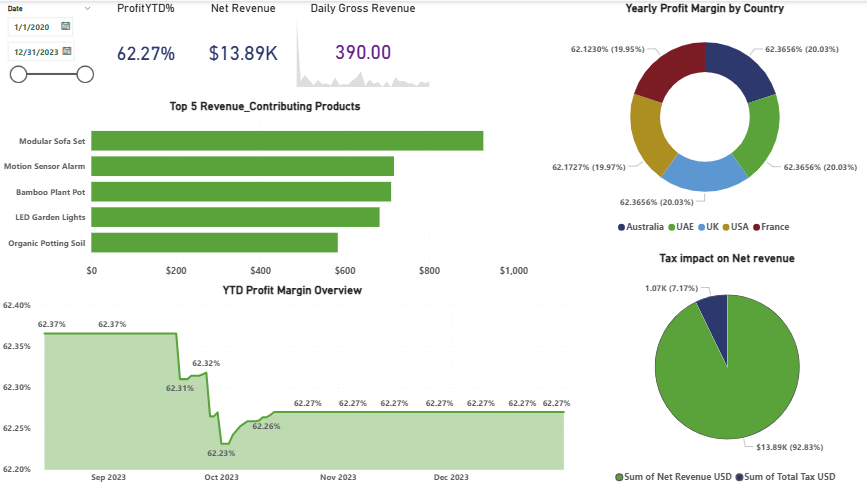

The dashboard page shown, as its layout file describes it:
{"tool":"powerbi","page":{"name":"Profit Overview","canvas":[1280,720],"ordinal":1},"visuals":[{"type":"clusteredBarChart","title":"Top 5 Revenue_Contributing Products","fields":{"Category":["Sales in USD.Product Name"],"Y":["Sum(Sales in USD.Net Revenue USD)"]},"box":[0,144,784,272],"z":0},{"type":"card","title":"ProfitYTD%","fields":{"Values":["Sales in USD.YTD Profit Margin"]},"box":[147.8,0,137.6,131.7],"z":1000},{"type":"card","title":"Net Revenue","fields":{"Values":["Sum(Sales in USD.Net Revenue USD)"]},"box":[285.4,0,147.8,131.7],"z":2000},{"type":"kpi","title":"Daily Gross Revenue","fields":{"Indicator":["Sum(Sales in USD.Gross Revenue USD)"],"TrendLine":["CalendarTable.Date"]},"box":[433.2,0,206.3,131.7],"z":3000},{"type":"slicer","fields":{"Values":["CalendarTable.Date"]},"box":[0,0,147.8,143.4],"z":4000},{"type":"donutChart","title":"Tax impact on Net revenue","fields":{"Y":["Sum(Sales in USD.Net Revenue USD)","Sum(Sales in USD.Total Tax USD)"]},"box":[864,368,416,352],"z":5000},{"type":"donutChart","title":"Yearly Profit Margin by Country ","fields":{"Y":["Sales in USD.Yearly Profit Margin"],"Category":["Sales in USD.Country Name"]},"box":[800,0,480,352],"z":6000},{"type":"areaChart","title":"YTD Profit Margin Overview","fields":{"Category":["CalendarTable.Date"],"Y":["Sales in USD.YTD Profit Margin"]},"box":[0,416,864,304],"z":7000}]}

Visuals, with their boxes in screenshot pixels (x1, y1, x2, y2), scaled from the page's 1280x720 canvas onto the 867x490 screenshot:
"Top 5 Revenue_Contributing Products" clusteredBarChart: x1=0, y1=98, x2=531, y2=283
"ProfitYTD%" card: x1=100, y1=0, x2=193, y2=90
"Net Revenue" card: x1=193, y1=0, x2=293, y2=90
"Daily Gross Revenue" kpi: x1=293, y1=0, x2=433, y2=90
slicer - CalendarTable.Date: x1=0, y1=0, x2=100, y2=98
"Tax impact on Net revenue" donutChart: x1=585, y1=250, x2=866, y2=489
"Yearly Profit Margin by Country " donutChart: x1=542, y1=0, x2=866, y2=240
"YTD Profit Margin Overview" areaChart: x1=0, y1=283, x2=585, y2=489
